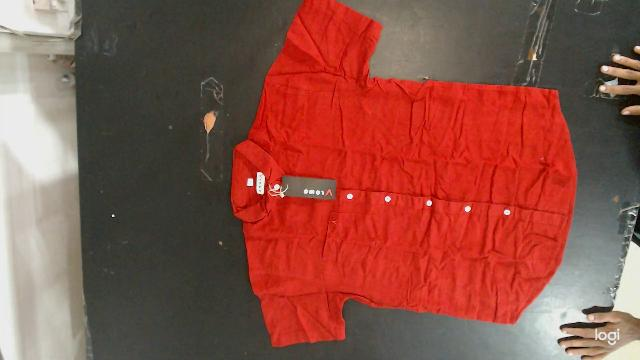new-garment: (230, 0, 577, 346)
